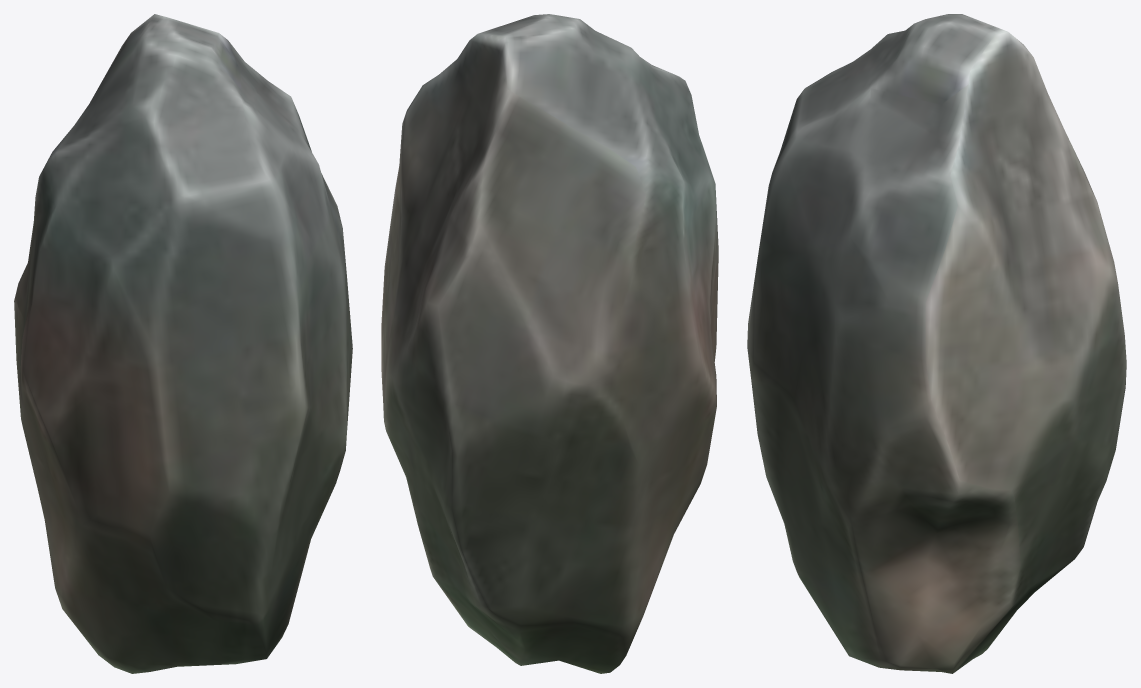
File: sp-stein-8.glb
3 renders of one model, left to right at view 1: azimuth 30°, elevation 25°; view 2: azimuth 150°, elevation 25°; view 3: azimuth 270°, elevation 25°, orthographic. The views are drawn at different scales.
Visible parts, largest first — view 1: sp-stein-8; view 2: sp-stein-8; view 3: sp-stein-8.
Boxes of the visible parts, <box> form: sp-stein-8: <box>14,14,352,673</box>; sp-stein-8: <box>381,14,718,673</box>; sp-stein-8: <box>747,14,1126,673</box>.
Size of the model in its own units: 0.8624 by 1.63 by 0.8837.
1 material, 1 textured.
